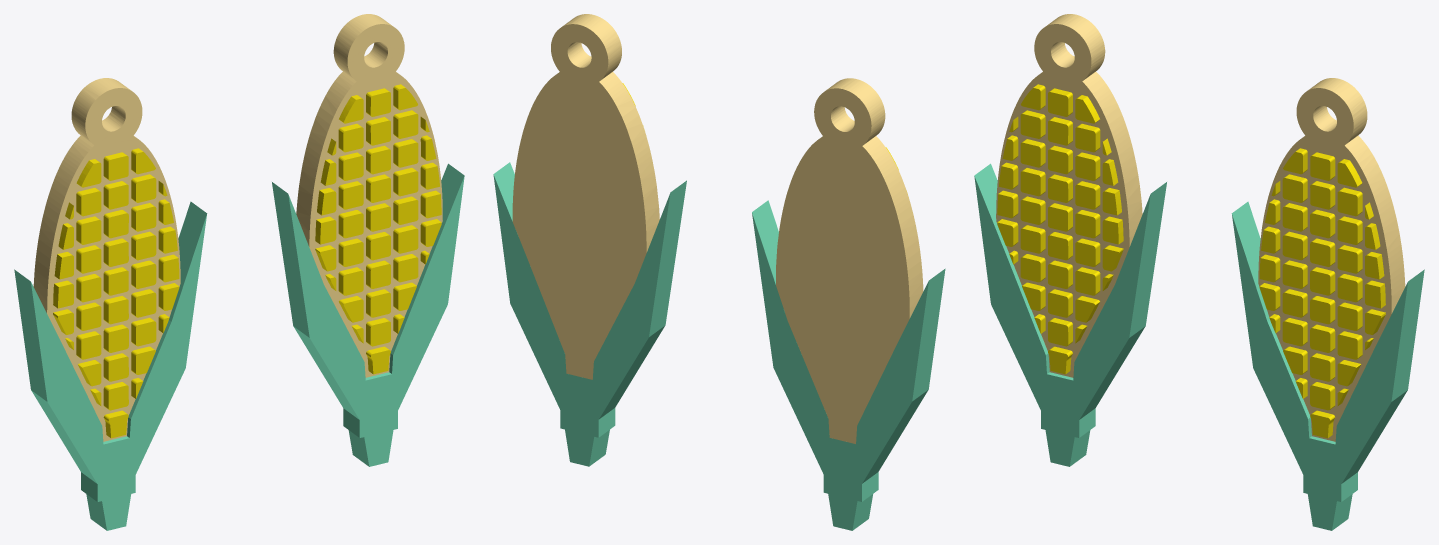
Rendered from aretes-mazorca.glb.
3 views of the same model, side by side, from view 1: azimuth 30°, elevation 25°; view 2: azimuth 150°, elevation 25°; view 3: azimuth 330°, elevation 25° (orthographic).
Parts seen in each view (by area): view 1: amarillo, verde, dorado; view 2: dorado, verde; view 3: amarillo, verde, dorado.
Boxes of the visible parts, bbox=[...] form: amarillo: bbox=[53, 84, 441, 438]; verde: bbox=[14, 163, 464, 530]; dorado: bbox=[33, 14, 442, 441]; dorado: bbox=[512, 14, 923, 443]; verde: bbox=[493, 162, 945, 530]; amarillo: bbox=[997, 84, 1385, 438]; verde: bbox=[974, 163, 1424, 530]; dorado: bbox=[996, 14, 1405, 441].
Bounding box in the file's own units: 36.4 × 35.1 × 2.7.
